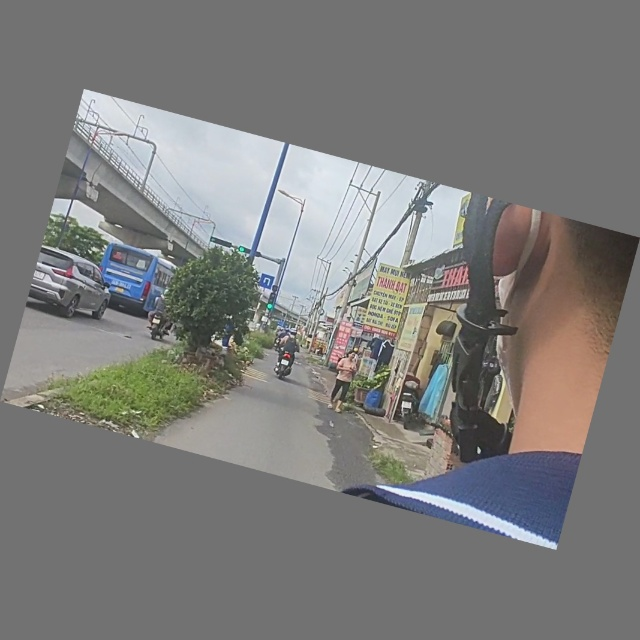I.409: (256, 272, 277, 291)
